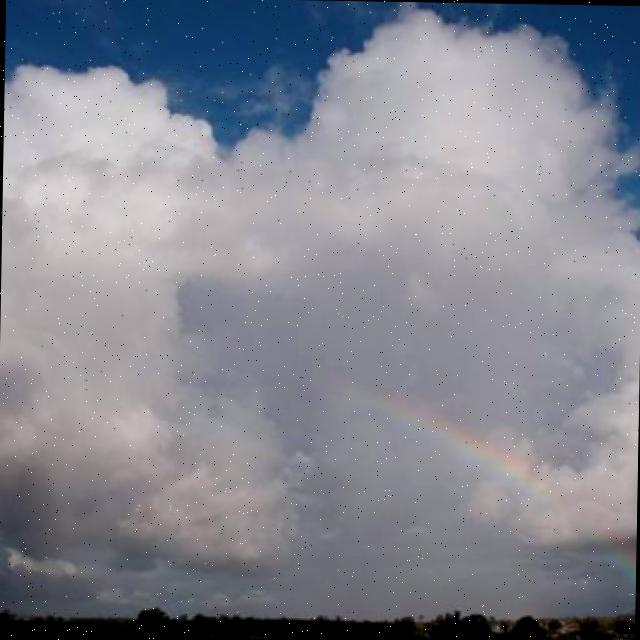Cu: (1, 17, 640, 480)
